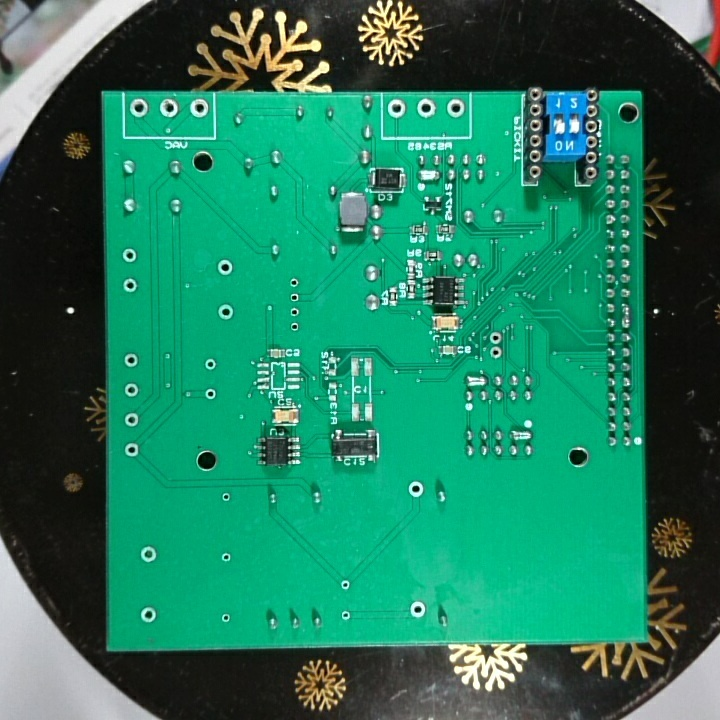F: (413, 96, 439, 121), (187, 95, 211, 120), (386, 95, 408, 122), (157, 97, 182, 120), (128, 96, 150, 121), (445, 96, 466, 121), (406, 599, 428, 621), (214, 257, 235, 280), (139, 543, 159, 566), (119, 275, 140, 296), (215, 303, 237, 323), (139, 604, 158, 627), (119, 246, 139, 266), (122, 351, 142, 371), (407, 479, 426, 500), (121, 381, 141, 400), (122, 411, 142, 429), (122, 442, 141, 460), (202, 385, 219, 403), (487, 345, 506, 361), (218, 549, 234, 567), (202, 357, 218, 375), (285, 290, 303, 306), (219, 489, 234, 506), (287, 320, 304, 335), (487, 331, 505, 345), (287, 274, 302, 290), (338, 608, 354, 623), (339, 577, 353, 592), (219, 610, 232, 626), (287, 306, 302, 319)
P: (618, 301, 634, 331), (461, 374, 490, 390), (509, 428, 535, 445), (416, 168, 442, 184)
